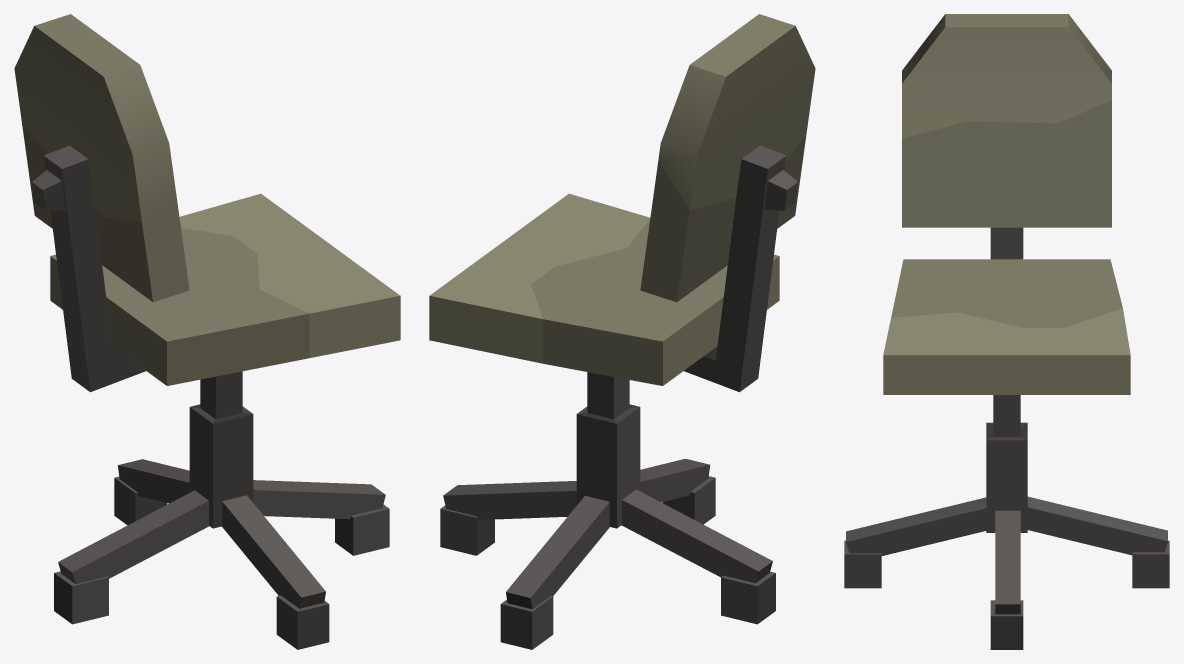
Rendered from AI_Prop_ComputerChair.fbx.
3 renders of one model, left to right at view 1: azimuth 30°, elevation 25°; view 2: azimuth 150°, elevation 25°; view 3: azimuth 270°, elevation 25°, orthographic. The views are drawn at different scales.
Visible parts, largest first — view 1: AI_Prop_ComputerChair; view 2: AI_Prop_ComputerChair; view 3: AI_Prop_ComputerChair.
Boxes of the visible parts, x1,y1,x2,y2 form: AI_Prop_ComputerChair: (14,14,400,649); AI_Prop_ComputerChair: (429,14,815,649); AI_Prop_ComputerChair: (844,14,1169,649).
Size of the model in its own units: 1.34 by 2.12 by 1.24.
